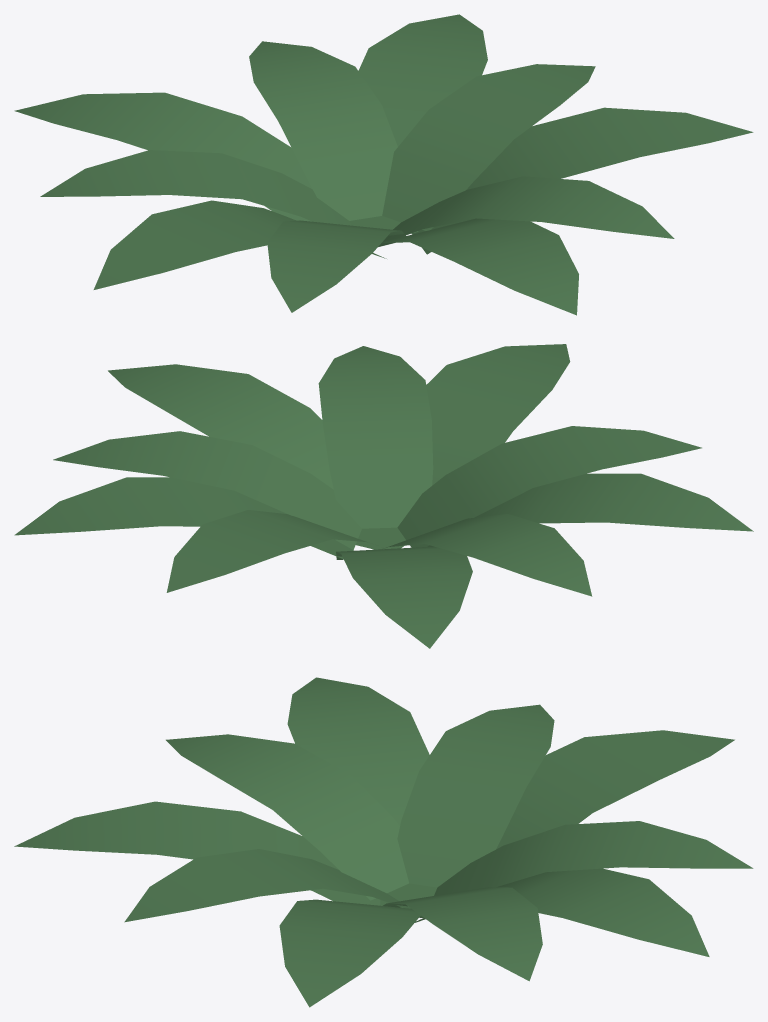
The model's file is Foliage 1.fbx.
The picture shows the model from 3 angles, top to bottom: view 1: azimuth 30°, elevation 25°; view 2: azimuth 150°, elevation 25°; view 3: azimuth 270°, elevation 25°; orthographic projection. The views are drawn at different scales.
Parts seen in each view (by area): view 1: pPlane12; view 2: pPlane12; view 3: pPlane12.
Part boxes in pixels (x1=…): pPlane12: x1=14, y1=14, x2=753, y2=315; pPlane12: x1=14, y1=344, x2=753, y2=648; pPlane12: x1=14, y1=677, x2=753, y2=1007.
Size of the model in its own units: 2.7 by 0.2929 by 2.56.
